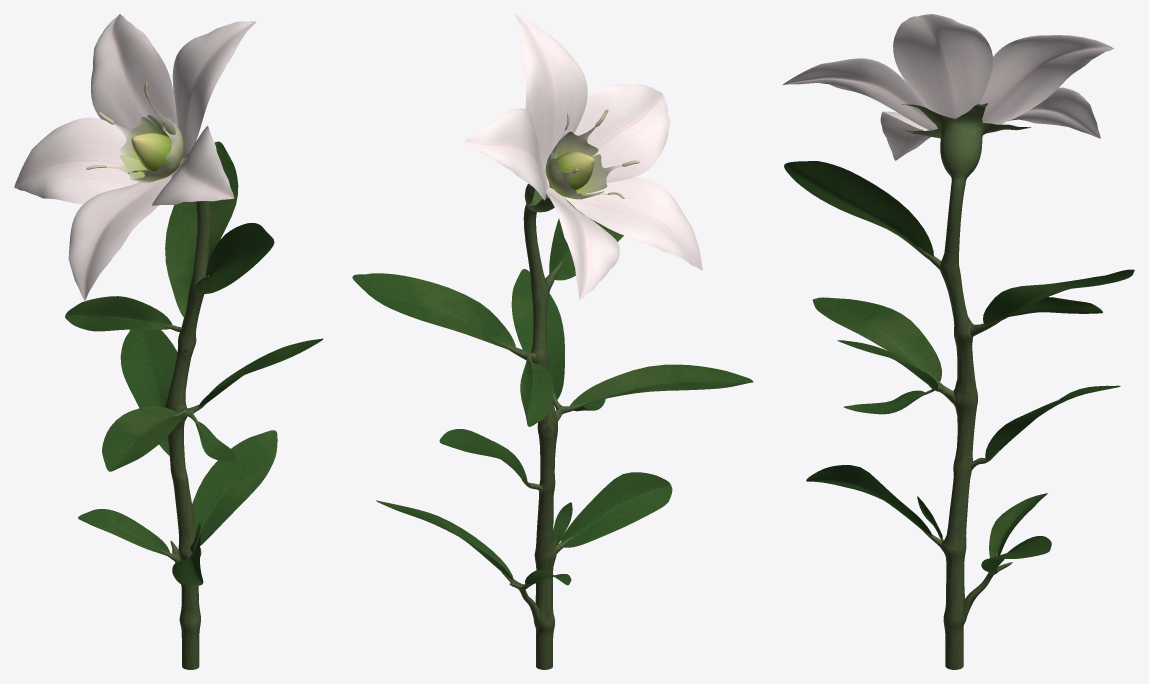
Rendered from ELflowerTexturedFBX.glb.
3 renders of one model, left to right at view 1: azimuth 30°, elevation 25°; view 2: azimuth 150°, elevation 25°; view 3: azimuth 270°, elevation 25°, orthographic. The views are drawn at different scales.
Parts seen in each view (by area): view 1: Petal4_LP, Stem_LP, Petal3_LP, Petal5_LP, Petal2_LP, Leaf10_LP, Leaf2_LP, Leaf7_LP, Petal1_LP, Leaf5_LP, Leaf1_LP, Leaf3_LP (+8 smaller); view 2: Stem_LP, Petal1_LP, Petal2_LP, Petal5_LP, Leaf2_LP, Leaf8_LP, Leaf5_LP, Petal3_LP, Petal4_LP, Leaf4_LP, Leaf3_LP, Leaf7_LP (+6 smaller); view 3: Stem_LP, Petal2_LP, Petal3_LP, Leaf1_LP, Leaf5_LP, Petal1_LP, Leaf2_LP, Petal4_LP, Leaf8_LP, Petal5_LP, Leaf7_LP, Leaf11_LP (+4 smaller).
Part boxes in pixels (x1=…): Petal4_LP: x1=14, y1=117, x2=139, y2=203; Stem_LP: x1=165, y1=145, x2=216, y2=669; Petal3_LP: x1=91, y1=14, x2=177, y2=128; Petal5_LP: x1=68, y1=173, x2=172, y2=300; Petal2_LP: x1=172, y1=21, x2=256, y2=159; Leaf10_LP: x1=192, y1=430, x2=277, y2=545; Leaf2_LP: x1=165, y1=141, x2=238, y2=316; Leaf7_LP: x1=120, y1=329, x2=177, y2=455; Petal1_LP: x1=152, y1=126, x2=234, y2=205; Leaf5_LP: x1=102, y1=406, x2=186, y2=471; Leaf1_LP: x1=194, y1=223, x2=274, y2=293; Leaf3_LP: x1=65, y1=296, x2=172, y2=331; Stem_LP: x1=523, y1=183, x2=579, y2=669; Petal1_LP: x1=574, y1=84, x2=670, y2=182; Petal2_LP: x1=515, y1=14, x2=587, y2=169; Petal5_LP: x1=564, y1=177, x2=702, y2=270; Leaf2_LP: x1=352, y1=273, x2=515, y2=352; Leaf8_LP: x1=560, y1=472, x2=672, y2=547; Leaf5_LP: x1=570, y1=364, x2=753, y2=409; Petal3_LP: x1=464, y1=108, x2=549, y2=200; Petal4_LP: x1=545, y1=187, x2=619, y2=299; Leaf4_LP: x1=511, y1=269, x2=564, y2=399; Leaf3_LP: x1=520, y1=356, x2=553, y2=426; Leaf7_LP: x1=439, y1=429, x2=530, y2=487; Stem_LP: x1=902, y1=103, x2=1030, y2=669; Petal2_LP: x1=893, y1=14, x2=992, y2=118; Petal3_LP: x1=979, y1=35, x2=1113, y2=124; Leaf1_LP: x1=784, y1=161, x2=933, y2=259; Leaf5_LP: x1=812, y1=297, x2=941, y2=381; Petal1_LP: x1=782, y1=58, x2=937, y2=130; Leaf2_LP: x1=983, y1=269, x2=1134, y2=324; Petal4_LP: x1=1008, y1=87, x2=1100, y2=138; Leaf8_LP: x1=806, y1=465, x2=932, y2=536; Petal5_LP: x1=880, y1=111, x2=930, y2=160; Leaf7_LP: x1=985, y1=385, x2=1120, y2=460; Leaf11_LP: x1=989, y1=493, x2=1047, y2=557.
Bounding box in the file's own units: 7.15 × 15.87 × 7.52.
Materials: 3 (3 with a texture image).
